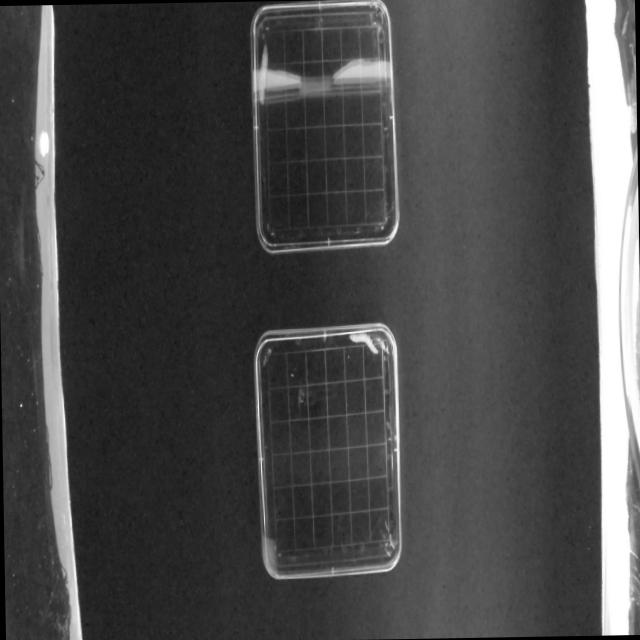larva: (346, 329, 380, 358), (255, 40, 269, 105)
